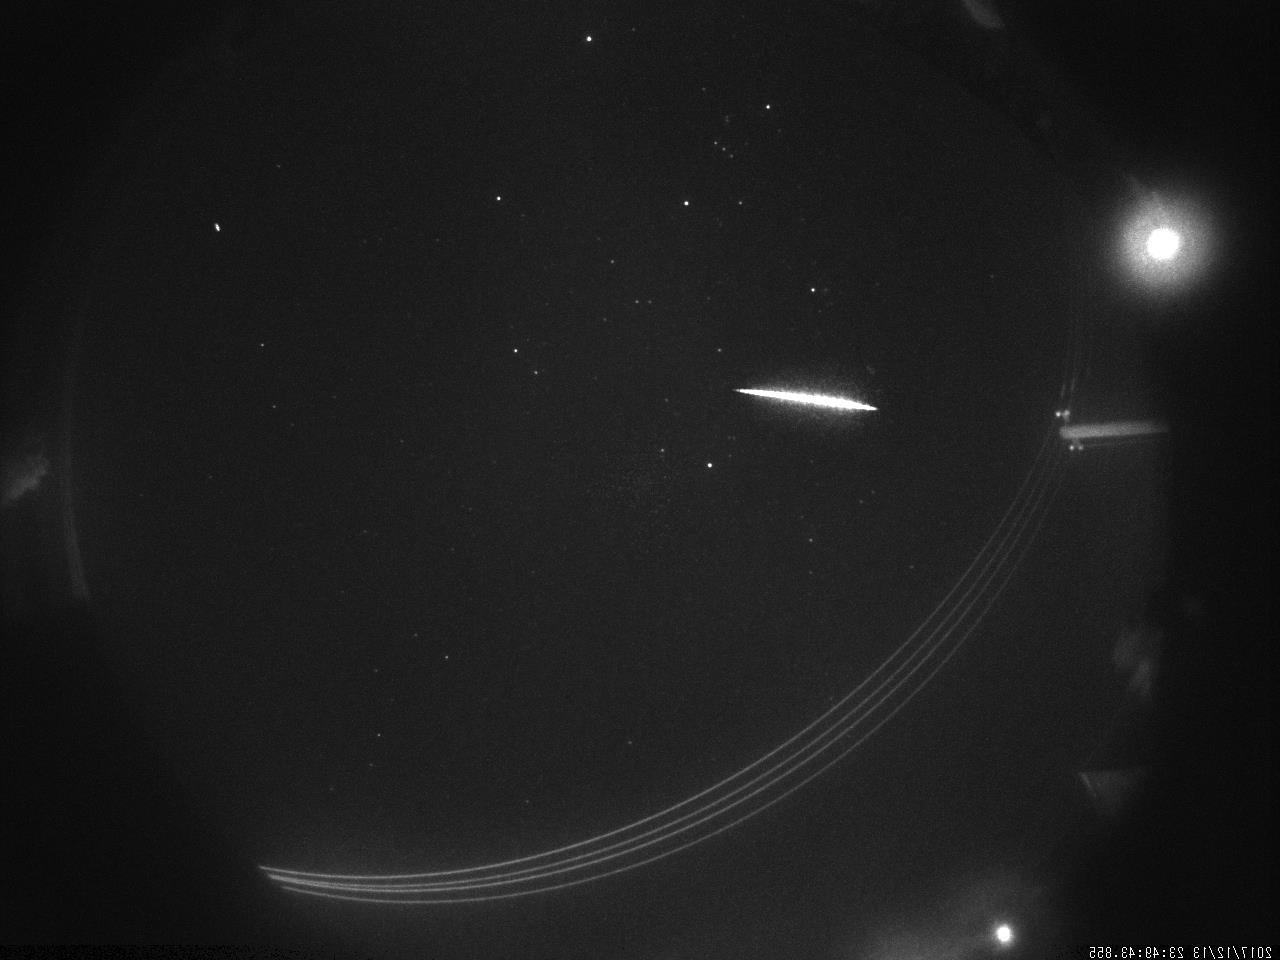meteor: (722, 353, 893, 433)
